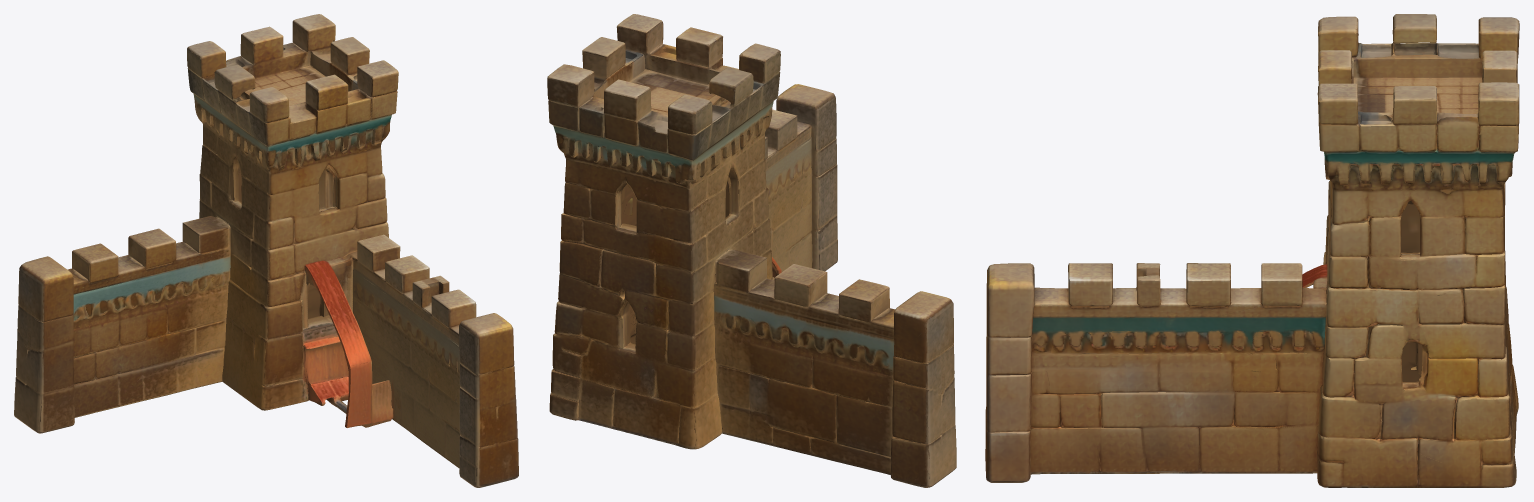
Rendered from jer_wall_corner.glb.
The picture shows the model from 3 angles, left to right: view 1: azimuth 30°, elevation 25°; view 2: azimuth 150°, elevation 25°; view 3: azimuth 270°, elevation 25°; orthographic projection. The views are drawn at different scales.
Visible parts, largest first — view 1: geometry_0; view 2: geometry_0; view 3: geometry_0.
Boxes of the visible parts, box(x1,y1,x2,y2) form: geometry_0: box(14, 14, 518, 487); geometry_0: box(547, 14, 956, 487); geometry_0: box(985, 14, 1519, 487).
Bounding box in the file's own units: 14.01 × 12.61 × 15.54.
Materials: 1 (1 with a texture image).
